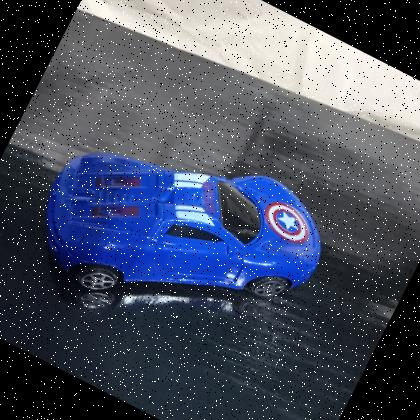Car: (6, 81, 356, 388)
